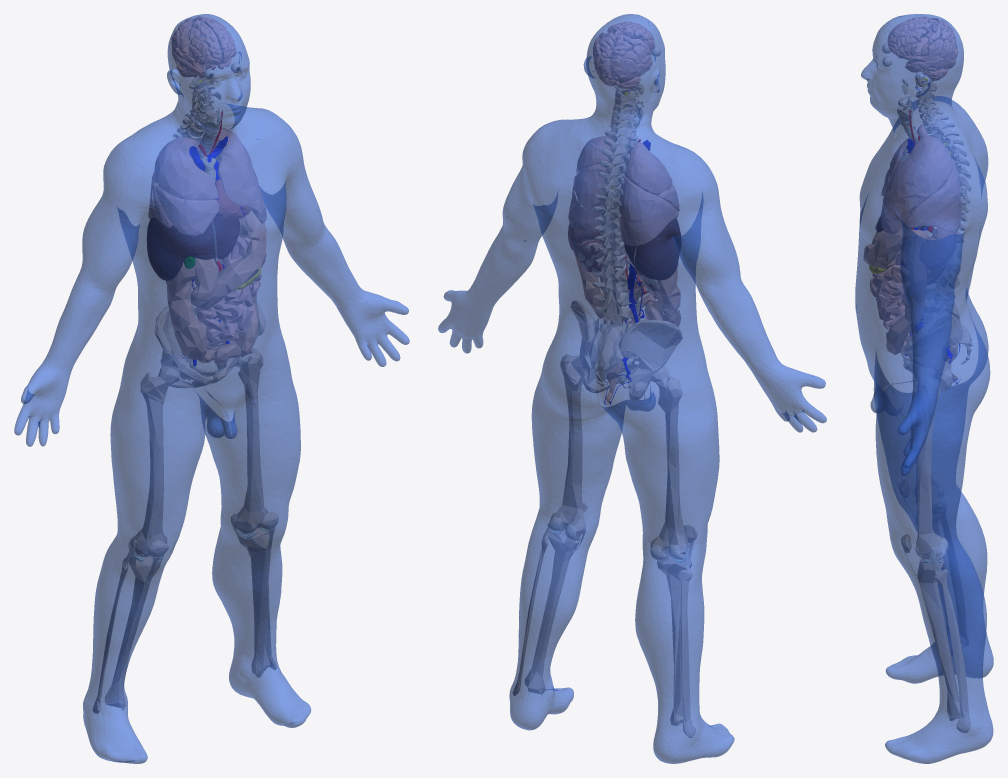
The model's file is anatomy.glb.
3 renders of one model, left to right at view 1: azimuth 30°, elevation 25°; view 2: azimuth 150°, elevation 25°; view 3: azimuth 270°, elevation 25°, orthographic. The views are drawn at different scales.
Visible parts, largest first — view 1: integumentary__VH_M_skin, digestive__VH_M_liver_capsule, musculoskeletal__VH_M_femur_R, musculoskeletal__VH_M_femur_L, digestive__VH_M_transverse_colon, musculoskeletal__VH_M_tibia_L, musculoskeletal__VH_M_tibia_R, respiratory__VH_M_right_anterior_bronchopulmonary_segment, digestive__VH_M_ileum, respiratory__VH_M_left_anterior_bronchopulmonary_segment, respiratory__VH_M_right_medial_bronchopulmonary_segment, digestive__VH_M_ascending_colon (+5 smaller); view 2: integumentary__VH_M_skin, musculoskeletal__VH_M_femur_R, musculoskeletal__VH_M_femur_L, musculoskeletal__VH_M_tibia_L, musculoskeletal__VH_M_ilium_compact_bone_R, digestive__VH_M_liver_capsule, musculoskeletal__VH_M_tibia_R, musculoskeletal__VH_M_sacrum, musculoskeletal__VH_M_fibula_R, respiratory__VH_M_right_posterior_bronchopulmonary_segment, respiratory__VH_M_right_superior_bronchopulmonary_segment, respiratory__VH_M_left_superior_bronchopulmonary_segment (+1 smaller); view 3: integumentary__VH_M_skin, musculoskeletal__VH_M_tibia_L, musculoskeletal__VH_M_femur_L, respiratory__VH_M_left_anterior_bronchopulmonary_segment, musculoskeletal__VH_M_fibula_L, digestive__VH_M_jejunum, digestive__VH_M_transverse_colon, digestive__VH_M_descending_colon, respiratory__VH_M_left_lateral_basal_bronchopulmonary_segmen, respiratory__VH_M_left_posterior_bronchopulmonary_segment, respiratory__VH_M_left_anterior_basal_bronchopulmonary_segme, respiratory__VH_M_left_lingula_superior_bronchopulmonary_seg (+7 smaller).
Boxes of the visible parts, left/top/right/bottom form: integumentary__VH_M_skin: left=14, top=14, right=409, bottom=763; digestive__VH_M_liver_capsule: left=147, top=217, right=239, bottom=280; musculoskeletal__VH_M_femur_R: left=130, top=366, right=179, bottom=553; musculoskeletal__VH_M_femur_L: left=232, top=348, right=266, bottom=533; digestive__VH_M_transverse_colon: left=190, top=210, right=266, bottom=309; musculoskeletal__VH_M_tibia_L: left=238, top=528, right=270, bottom=677; musculoskeletal__VH_M_tibia_R: left=105, top=554, right=161, bottom=710; respiratory__VH_M_right_anterior_bronchopulmonary_segment: left=158, top=148, right=217, bottom=200; digestive__VH_M_ileum: left=197, top=301, right=253, bottom=349; respiratory__VH_M_left_anterior_bronchopulmonary_segment: left=217, top=144, right=257, bottom=189; respiratory__VH_M_right_medial_bronchopulmonary_segment: left=174, top=199, right=218, bottom=235; digestive__VH_M_ascending_colon: left=167, top=269, right=195, bottom=329; integumentary__VH_M_skin: left=438, top=14, right=826, bottom=763; musculoskeletal__VH_M_femur_R: left=651, top=366, right=687, bottom=556; musculoskeletal__VH_M_femur_L: left=552, top=354, right=585, bottom=538; musculoskeletal__VH_M_tibia_L: left=525, top=530, right=580, bottom=694; musculoskeletal__VH_M_ilium_compact_bone_R: left=619, top=320, right=682, bottom=372; digestive__VH_M_liver_capsule: left=633, top=204, right=680, bottom=279; musculoskeletal__VH_M_tibia_R: left=657, top=556, right=691, bottom=725; musculoskeletal__VH_M_sacrum: left=589, top=317, right=631, bottom=381; musculoskeletal__VH_M_fibula_R: left=678, top=570, right=695, bottom=737; respiratory__VH_M_right_posterior_bronchopulmonary_segment: left=624, top=150, right=666, bottom=194; respiratory__VH_M_right_superior_bronchopulmonary_segment: left=619, top=175, right=655, bottom=223; respiratory__VH_M_left_superior_bronchopulmonary_segment: left=574, top=164, right=606, bottom=208; integumentary__VH_M_skin: left=855, top=14, right=993, bottom=763; musculoskeletal__VH_M_tibia_L: left=917, top=557, right=960, bottom=720; musculoskeletal__VH_M_femur_L: left=916, top=387, right=942, bottom=558; respiratory__VH_M_left_anterior_bronchopulmonary_segment: left=888, top=154, right=943, bottom=197; musculoskeletal__VH_M_fibula_L: left=934, top=569, right=970, bottom=732; digestive__VH_M_jejunum: left=872, top=253, right=905, bottom=305; digestive__VH_M_transverse_colon: left=863, top=229, right=921, bottom=269; digestive__VH_M_descending_colon: left=886, top=231, right=927, bottom=354; respiratory__VH_M_left_lateral_basal_bronchopulmonary_segmen: left=924, top=194, right=958, bottom=230; respiratory__VH_M_left_posterior_bronchopulmonary_segment: left=926, top=143, right=952, bottom=183; respiratory__VH_M_left_anterior_basal_bronchopulmonary_segme: left=905, top=187, right=948, bottom=227; respiratory__VH_M_left_lingula_superior_bronchopulmonary_seg: left=881, top=185, right=940, bottom=216.
Bounding box in the file's own units: 1.04 × 1.82 × 0.3253.
